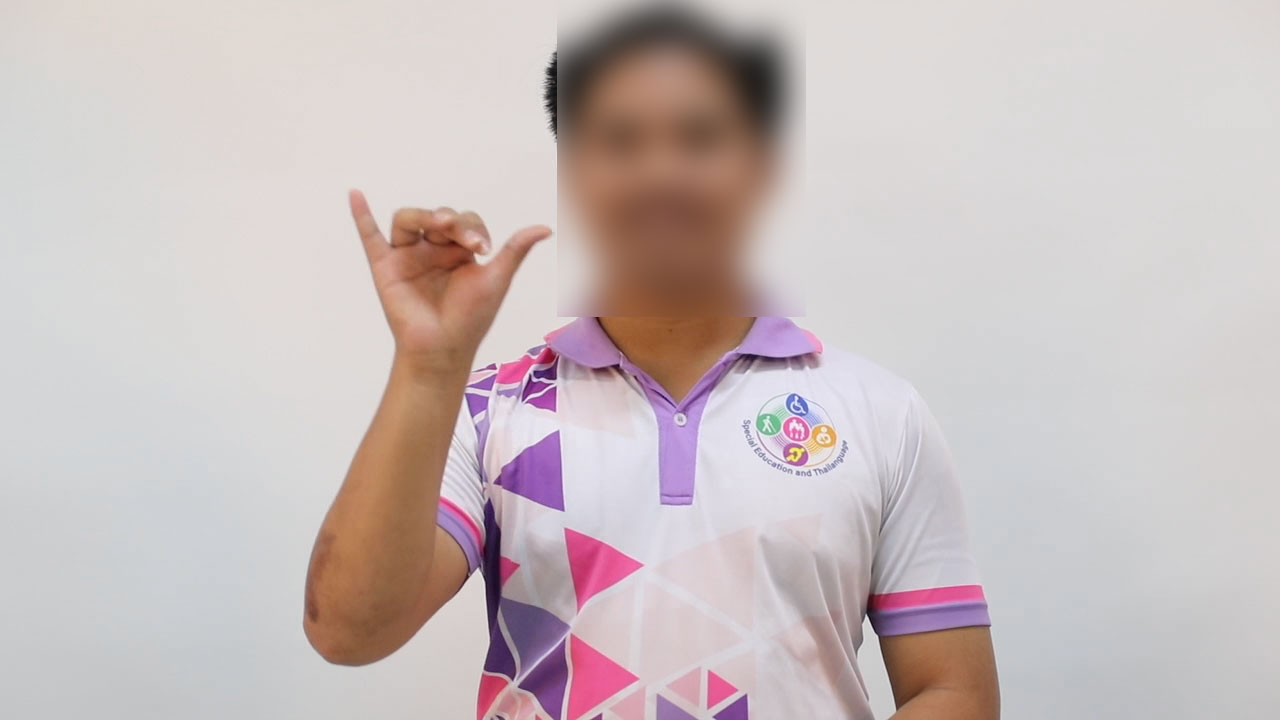yor: (335, 178, 562, 371)
